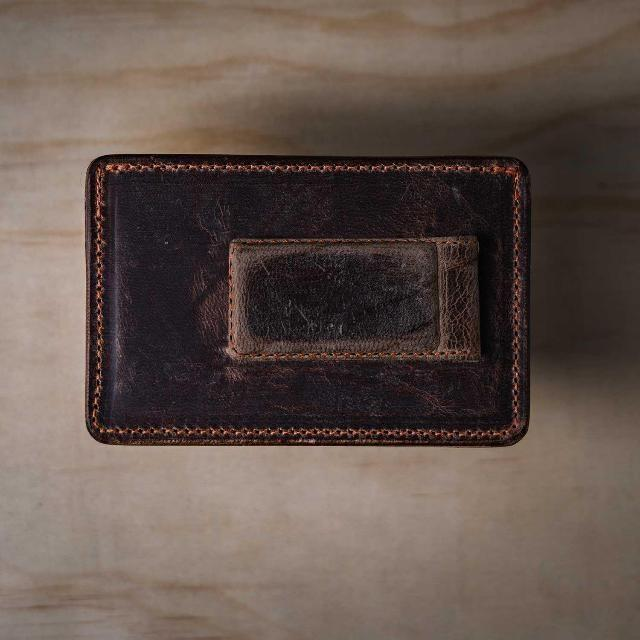Wallet: (83, 152, 529, 444)
